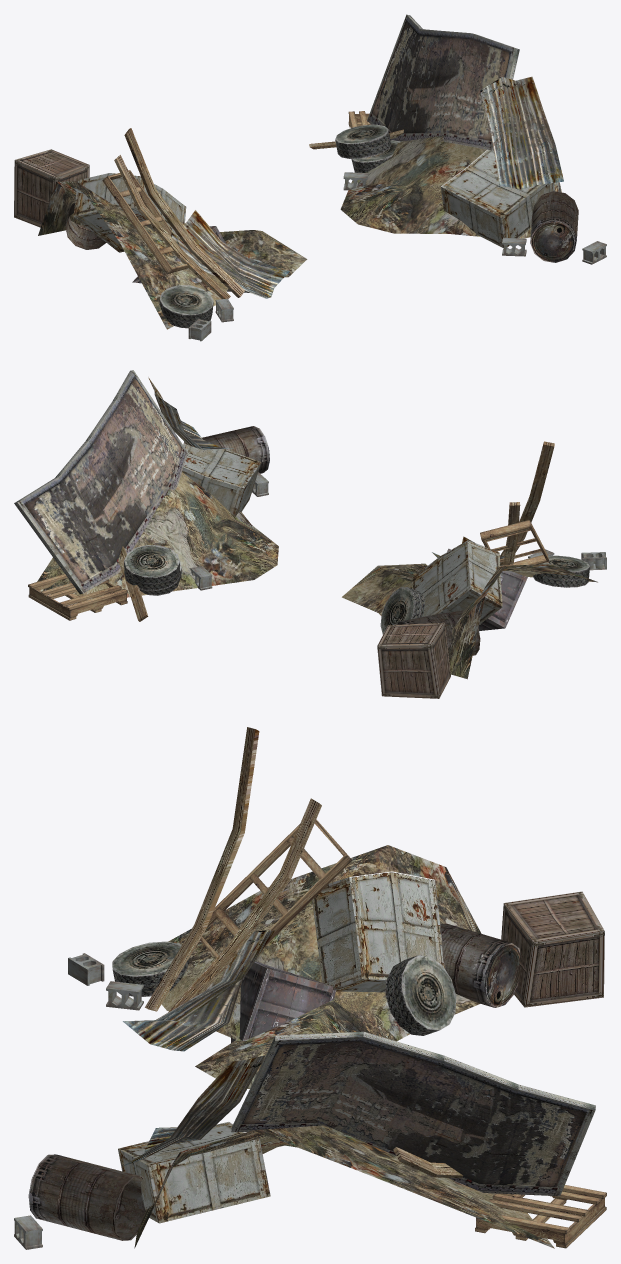
The model's file is Rdblk2x.glb.
3 renders of one model, top to bottom at view 1: azimuth 30°, elevation 25°; view 2: azimuth 150°, elevation 25°; view 3: azimuth 270°, elevation 25°, orthographic. The views are drawn at different scales.
Parts seen in each view (by area): view 1: _Rdblk2x; view 2: _Rdblk2x; view 3: _Rdblk2x.
Part boxes in pixels (x1,y1,x2,y2): _Rdblk2x: (14, 14, 606, 341); _Rdblk2x: (14, 370, 606, 698); _Rdblk2x: (14, 727, 606, 1249).
Bounding box in the file's own units: 10.07 × 4.8 × 8.78.
2 materials, 2 textured.
